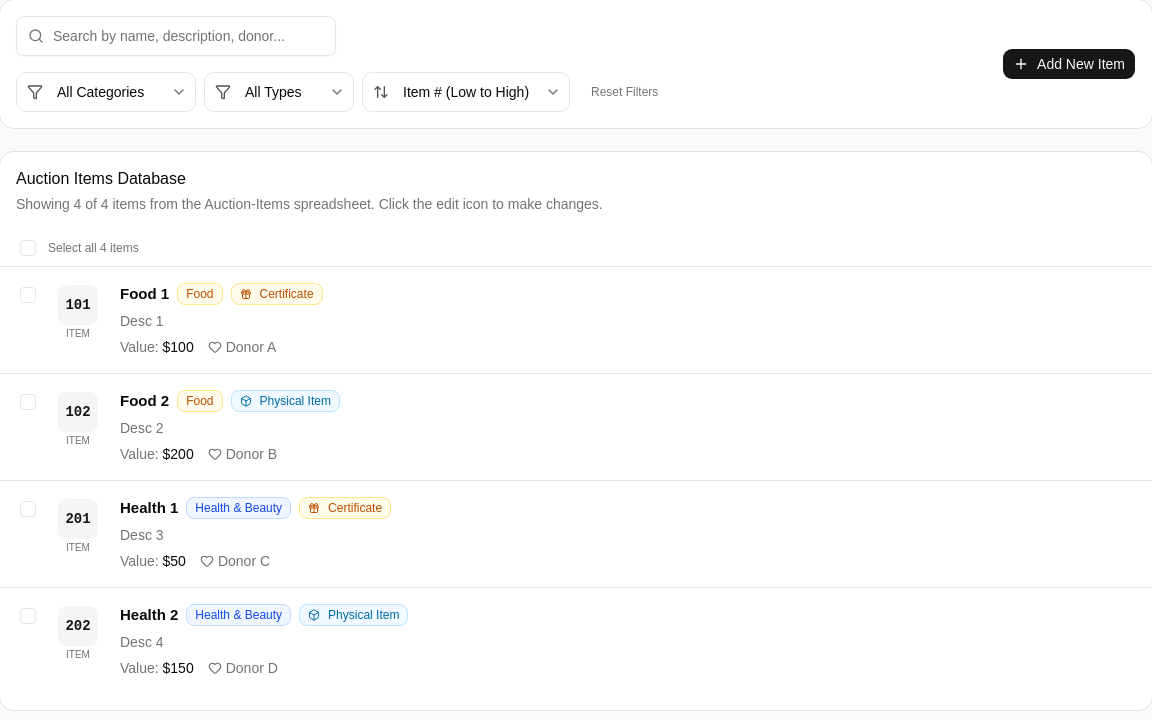
Scenario: AuctionItemsTab - Sort and Filter › Combined filter - Category AND Type
The image size is (1152, 720).
Click the dropdown named "Filter by category" at (106, 92), box [16,72,196,112]
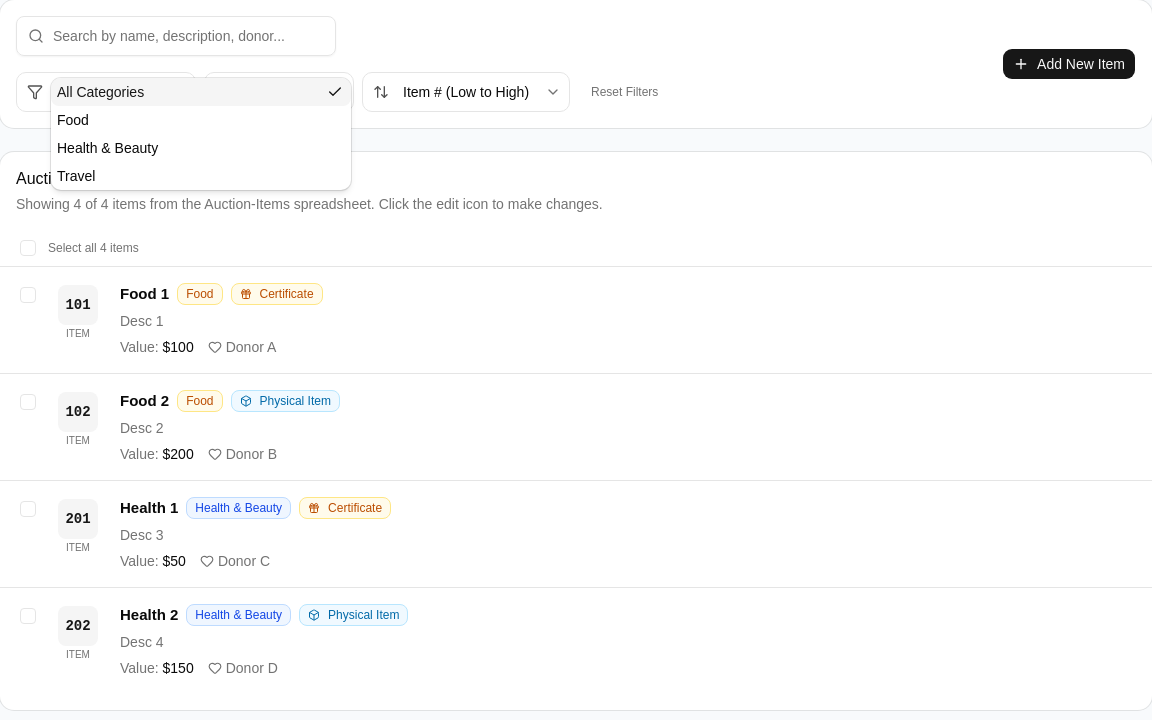
Click the option "Food" at (73, 120), box [57,112,89,128]
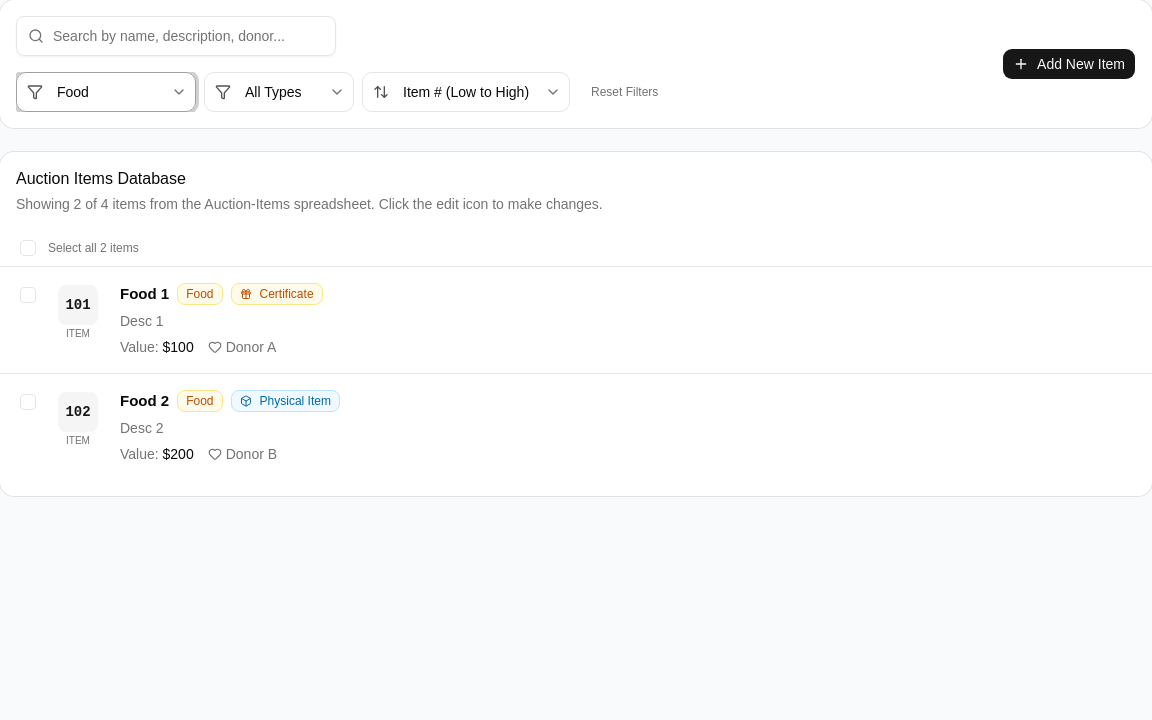
Click the dropdown named "Filter by item type" at (279, 92), box [204,72,354,112]
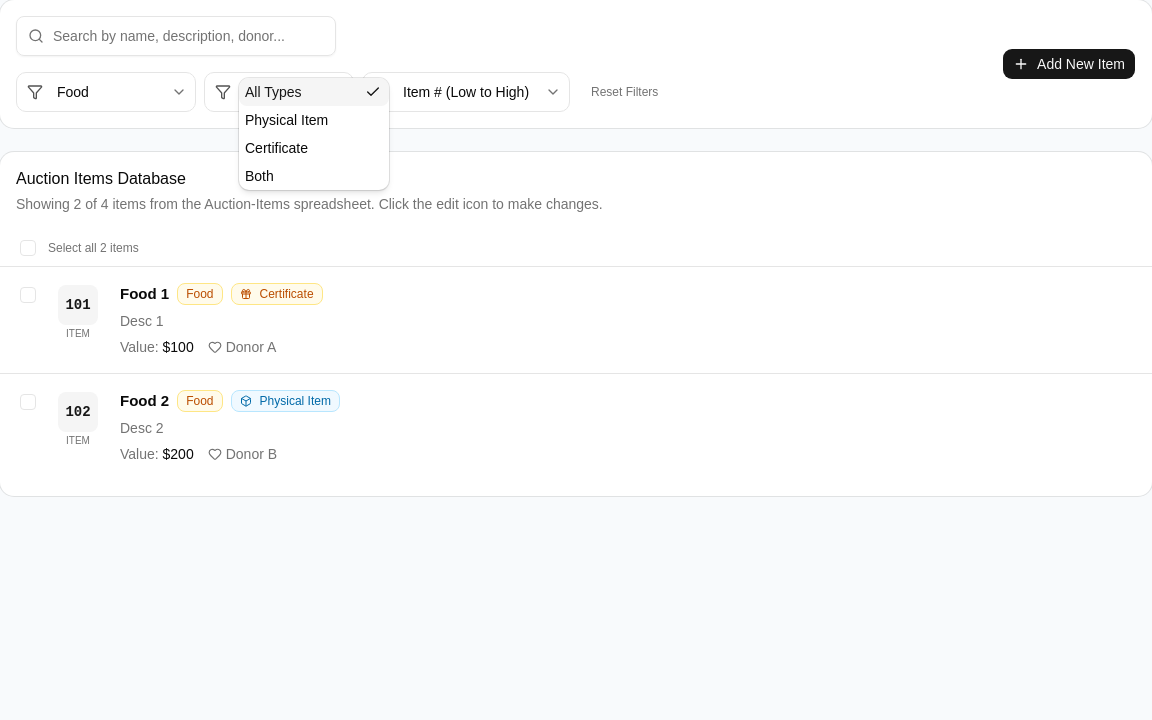
Click the option "Certificate" at (276, 148), box [245,140,308,156]
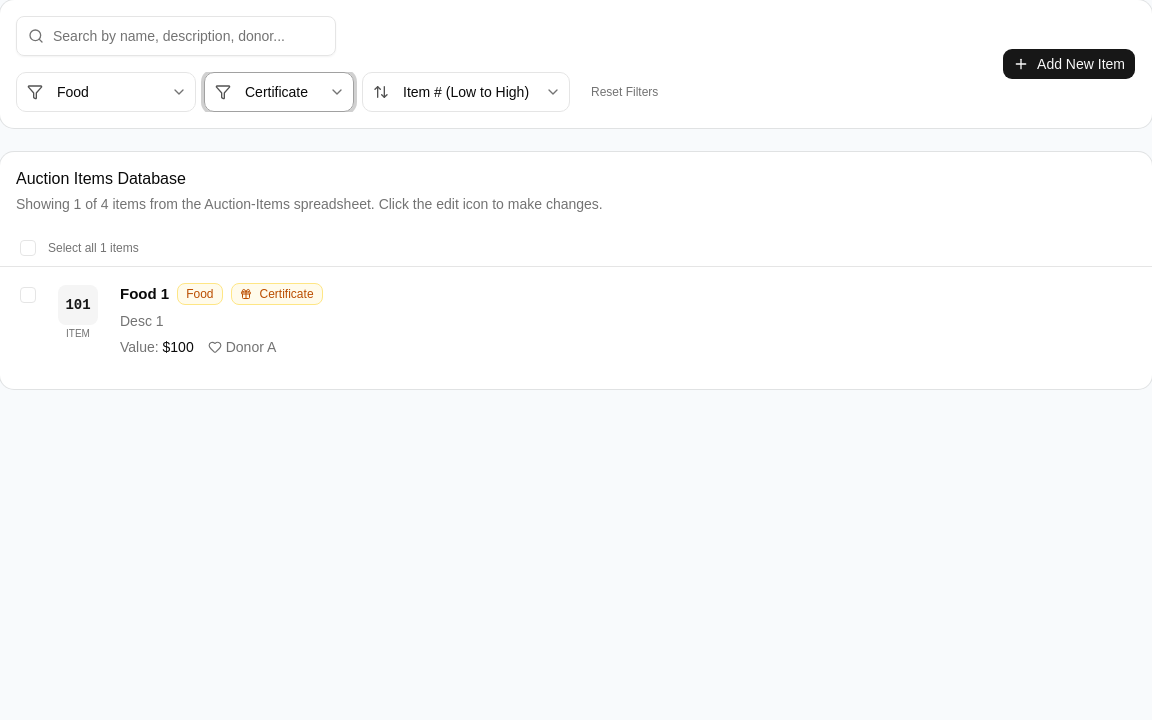
Expected: the text "Food 1" is shown, [120,283,169,305]
Expected: the text "Food 2" is gone
